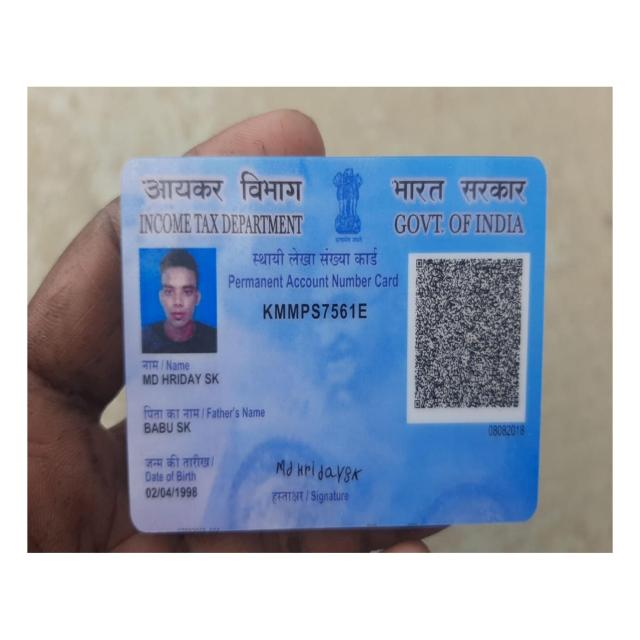pan_card: (130, 158, 540, 527)
